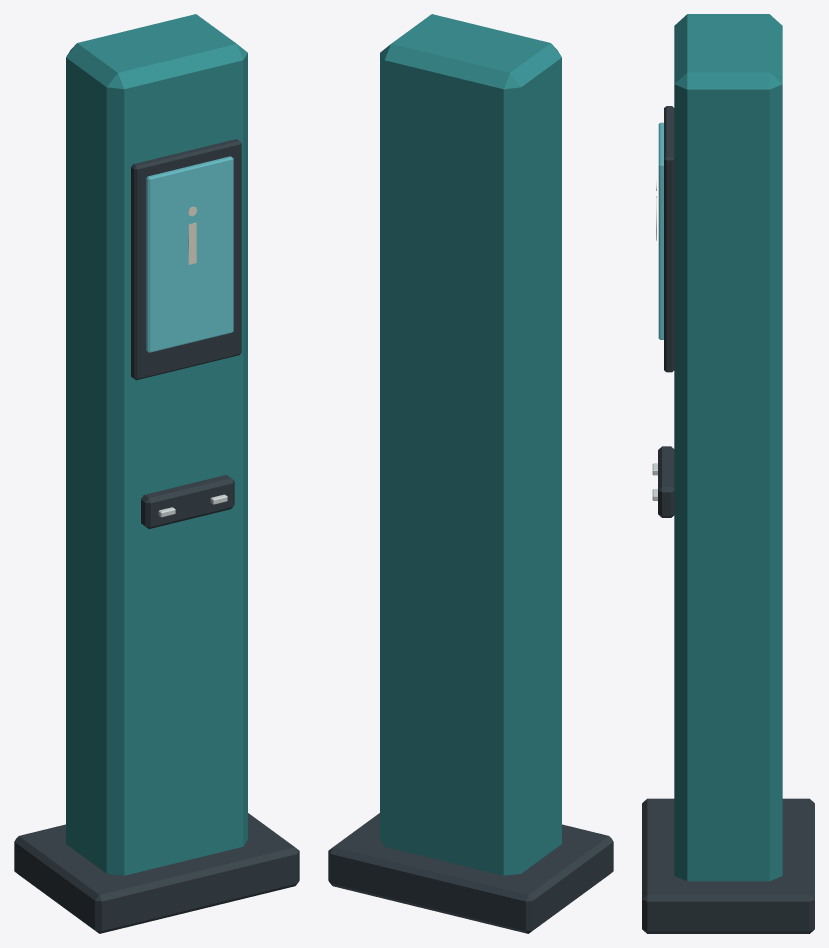
The model's file is Info_Charging_Terminal.glb.
The picture shows the model from 3 angles, left to right: view 1: azimuth 30°, elevation 25°; view 2: azimuth 150°, elevation 25°; view 3: azimuth 270°, elevation 25°; orthographic projection.
Visible parts, largest first — view 1: Info_Charging_Terminal; view 2: Info_Charging_Terminal; view 3: Info_Charging_Terminal.
Boxes of the visible parts, x1,y1,x2,y2 form: Info_Charging_Terminal: (14, 14, 299, 933); Info_Charging_Terminal: (328, 14, 613, 933); Info_Charging_Terminal: (642, 14, 814, 933).
Bounding box in the file's own units: 0.55 × 2.15 × 0.4.
